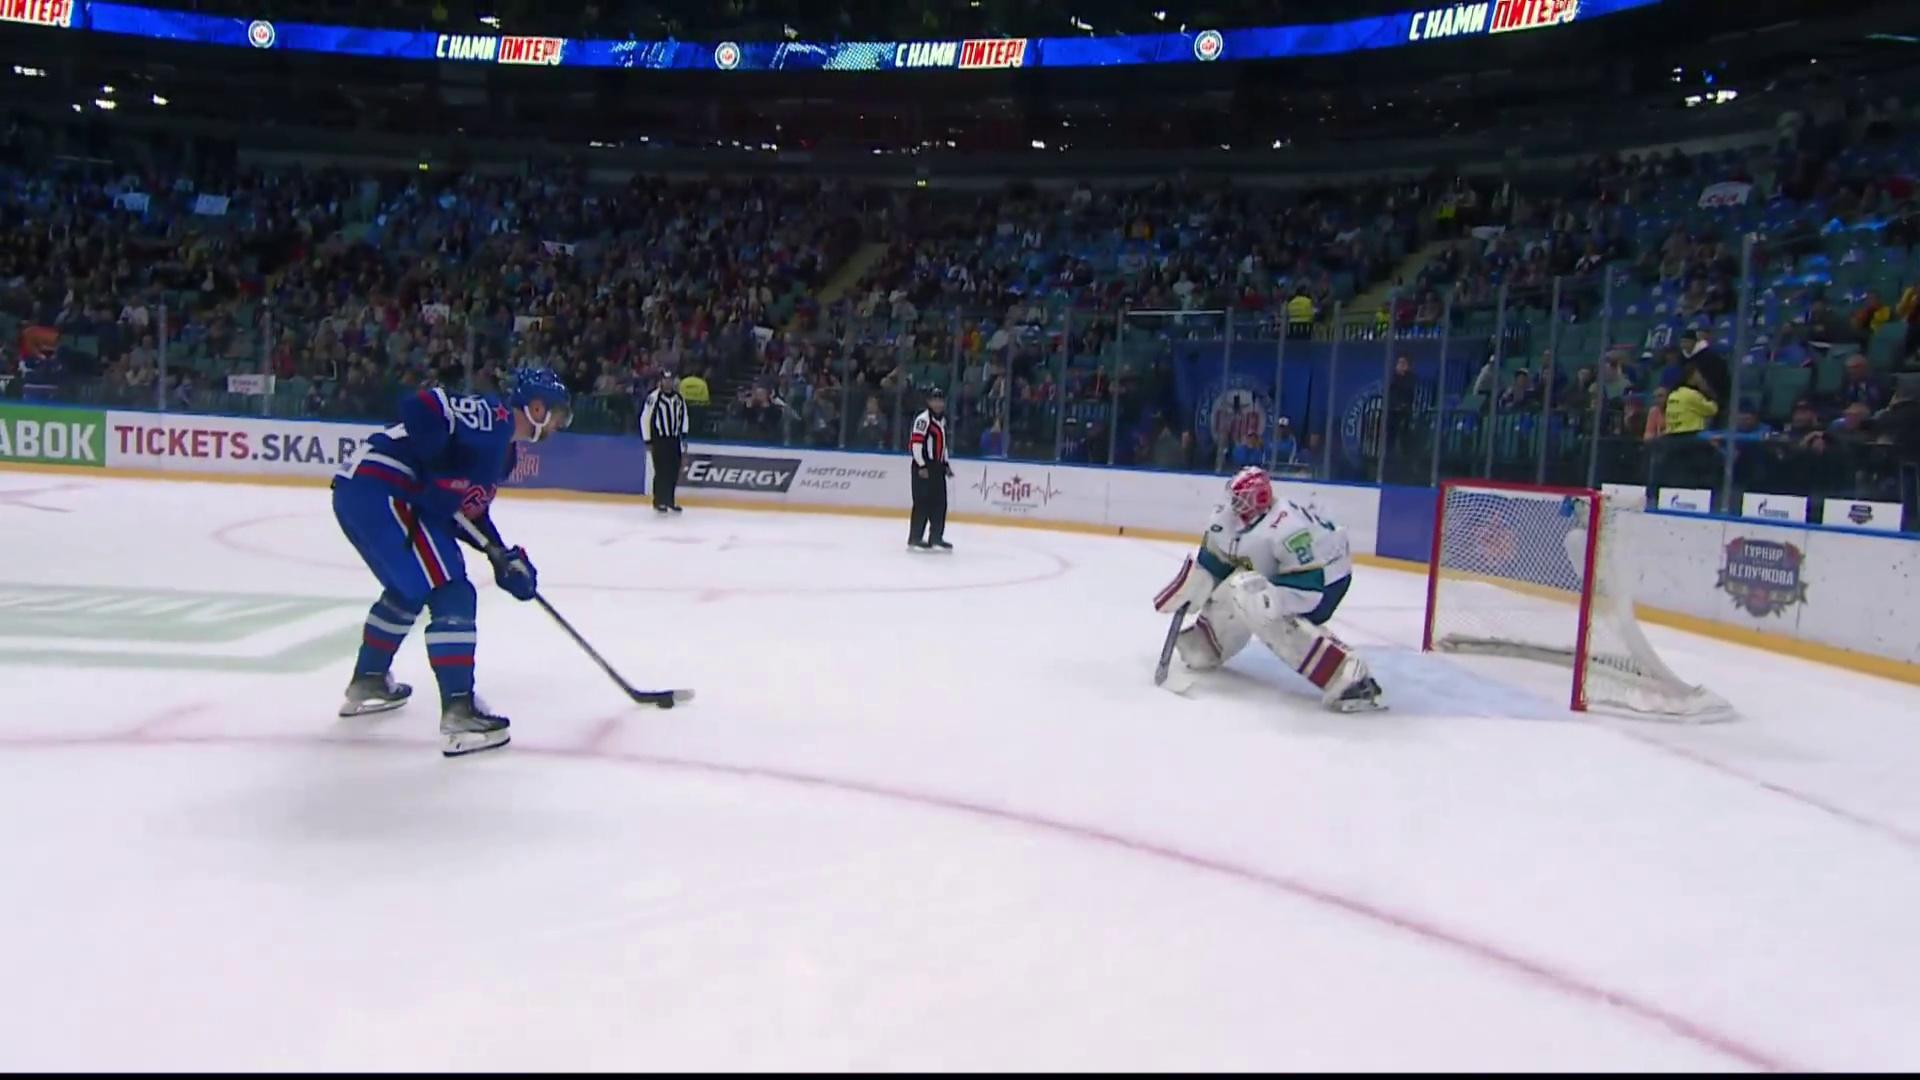ball: (655, 698, 676, 709)
